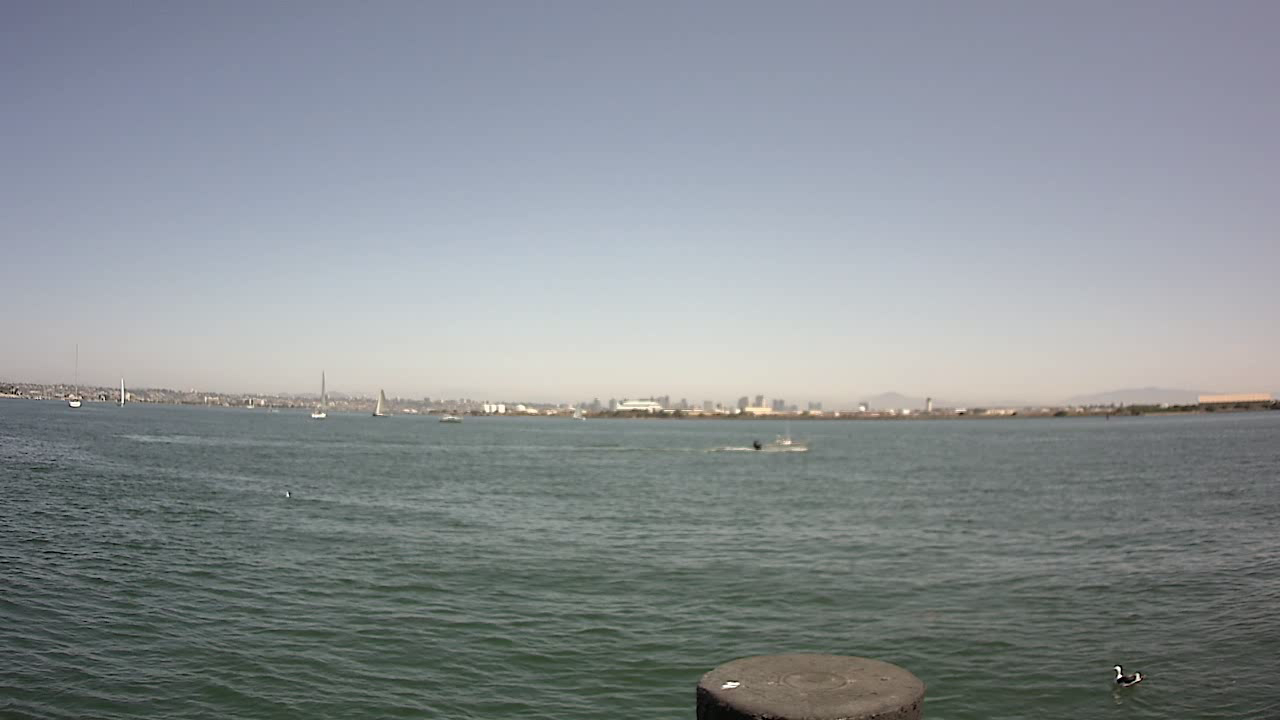target: (725, 422, 817, 459)
